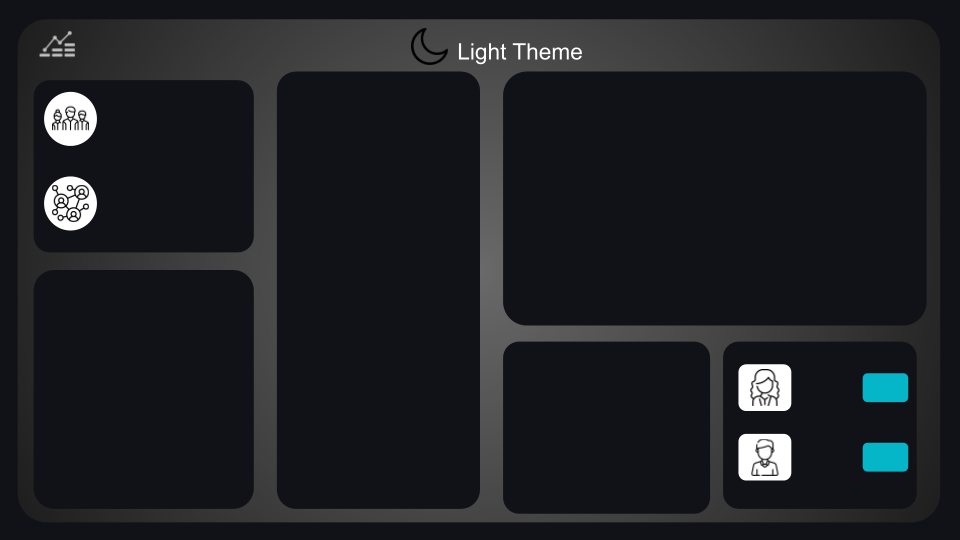

The page's visual inventory and layout, read from the dashboard file:
{"tool":"powerbi","page":{"name":"Customer Report Dark Theme","canvas":[1280,720],"ordinal":1},"visuals":[{"type":"clusteredColumnChart","fields":{"Category":["Customer.Age Category"],"Y":["All Measures.Total Revenue"]},"box":[684,170.7,535,259],"z":0},{"type":"card","fields":{"Values":["Customer Measures.Avg Caption"]},"box":[671.8,123,474.5,71.6],"z":1000},{"type":"donutChart","fields":{"Y":["Customer Measures.% CWoC","Customer Measures.% CWC"]},"box":[399.2,96.1,193.3,151.4],"z":2000},{"type":"textbox","box":[684,100,336.6,36.5],"z":3000},{"type":"donutChart","fields":{"Y":["Customer Measures.% CWoC","Customer Measures.% CWC"]},"box":[399.8,372.1,193,151.3],"z":4000},{"type":"textbox","box":[51.4,363.6,170.3,41.9],"z":5000},{"type":"card","fields":{"Values":["Customer Measures.% CWoC"]},"box":[451.6,122.3,95.8,95.8],"z":6000},{"type":"card","fields":{"Values":["Customer Measures.% CWC"]},"box":[448.4,401.2,97.2,95.8],"z":7000},{"type":"textbox","box":[367.9,238.8,272.1,41.6],"z":8000},{"type":"textbox","box":[367.9,515.1,272.1,40.3],"z":9000},{"type":"card","fields":{"Values":["Customer Measures.Caption Customers with Children"]},"box":[367.9,272.1,272.1,120.8],"z":10000},{"type":"card","fields":{"Values":["Customer Measures.Caption Customers without Children"]},"box":[363.7,535.9,276.3,140.2],"z":11000},{"type":"clusteredBarChart","fields":{"Category":["Customer.Customer Type"],"Y":["All Measures.Total Revenue"]},"box":[673.2,497.4,269,189.2],"z":12000},{"type":"clusteredBarChart","fields":{"Category":["Customer.Full Name"],"Y":["Customer Measures.Dynamic Customer"]},"box":[47.3,401.5,290.6,262.2],"z":13000},{"type":"slicer","fields":{"Values":["Dynamic Customers.Dynamic Customers"]},"box":[246,371.7,71.6,43.3],"z":14000},{"type":"card","fields":{"Values":["Customer Measures.% Male"]},"box":[1146.3,589.3,67.6,40.6],"z":15000},{"type":"card","fields":{"Values":["Customer Measures.% Female"]},"box":[1142.2,497.4,75.7,39.2],"z":16000},{"type":"card","fields":{"Values":["Customer Measures.Avg Customer Age"]},"box":[110.8,155.4,144.6,83.8],"z":17000},{"type":"card","fields":{"Values":["Customer Measures.#Customers"]},"box":[110.8,267.6,144.6,82.5],"z":18000},{"type":"textbox","box":[141.9,110.8,151.4,74.3],"z":19000},{"type":"textbox","box":[141.9,228.4,119,79.8],"z":20000},{"type":"textbox","box":[1057,483.9,101.4,37.8],"z":21000},{"type":"textbox","box":[1057,574.5,104.1,40.6],"z":22000},{"type":"textbox","box":[965.1,448.8,254.1,41.9],"z":23000},{"type":"card","fields":{"Values":["All Measures.Total Revenue"]},"box":[1052.3,509.5,87.5,55.5],"z":24000},{"type":"card","fields":{"Values":["All Measures.Total Revenue"]},"box":[1055.1,603.9,87.5,54.1],"z":25000},{"type":"textbox","box":[122.7,38.4,405.1,47.3],"z":26000},{"type":"slicer","fields":{"Values":["Geography.Country"]},"box":[965.8,24.9,243.7,62.3],"z":27000},{"type":"textbox","box":[665,458.2,202.8,41.9],"z":28000},{"type":"actionButton","title":"To Dark","box":[546.1,24.3,244.7,71.6],"z":29000}]}

Visuals, with their boxes in screenshot pixels (x1, y1, x2, y2), scaled from the page's 1280x720 canvas onto the 960x540 screenshot:
clusteredColumnChart - Customer.Age Category x All Measures.Total Revenue: 513 128 914 322
card - Customer Measures.Avg Caption: 504 92 860 146
donutChart - Customer Measures.% CWoC x Customer Measures.% CWC: 299 72 444 186
textbox: 513 75 765 102
donutChart - Customer Measures.% CWoC x Customer Measures.% CWC: 300 279 445 393
textbox: 39 273 166 304
card - Customer Measures.% CWoC: 339 92 411 164
card - Customer Measures.% CWC: 336 301 409 373
textbox: 276 179 480 210
textbox: 276 386 480 417
card - Customer Measures.Caption Customers with Children: 276 204 480 295
card - Customer Measures.Caption Customers without Children: 273 402 480 507
clusteredBarChart - Customer.Customer Type x All Measures.Total Revenue: 505 373 707 515
clusteredBarChart - Customer.Full Name x Customer Measures.Dynamic Customer: 35 301 253 498
slicer - Dynamic Customers.Dynamic Customers: 184 279 238 311
card - Customer Measures.% Male: 860 442 910 472
card - Customer Measures.% Female: 857 373 913 402
card - Customer Measures.Avg Customer Age: 83 117 192 179
card - Customer Measures.#Customers: 83 201 192 263
textbox: 106 83 220 139
textbox: 106 171 196 231
textbox: 793 363 869 391
textbox: 793 431 871 461
textbox: 724 337 914 368
card - All Measures.Total Revenue: 789 382 855 424
card - All Measures.Total Revenue: 791 453 857 494
textbox: 92 29 396 64
slicer - Geography.Country: 724 19 907 65
textbox: 499 344 651 375
"To Dark" actionButton: 410 18 593 72
